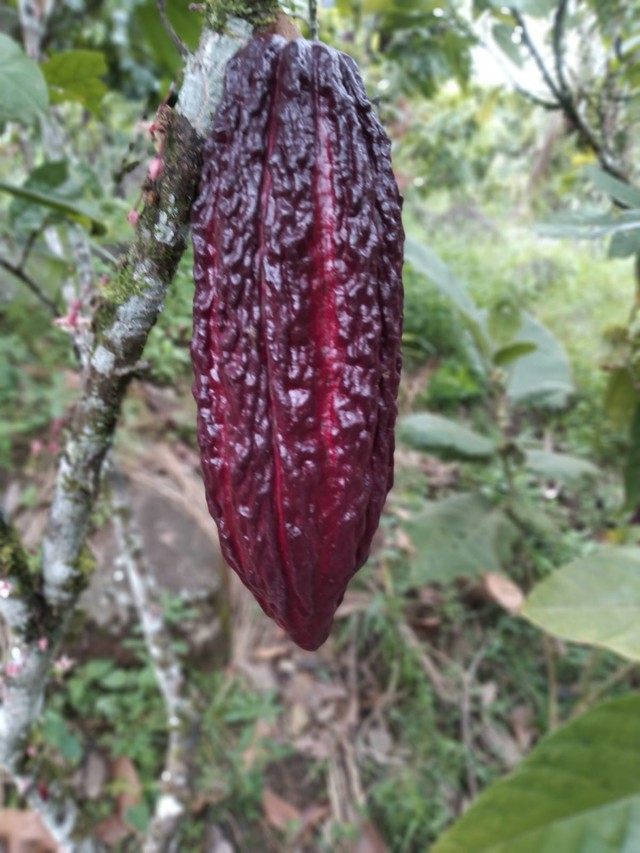Health: (150, 12, 441, 672)
